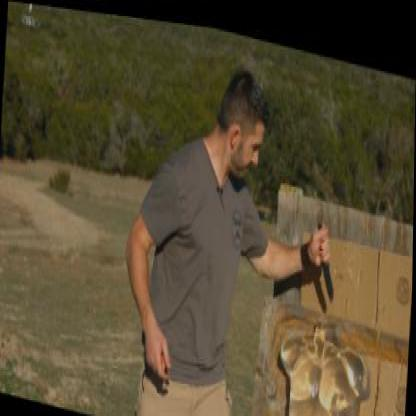knife: (310, 203, 338, 297)
